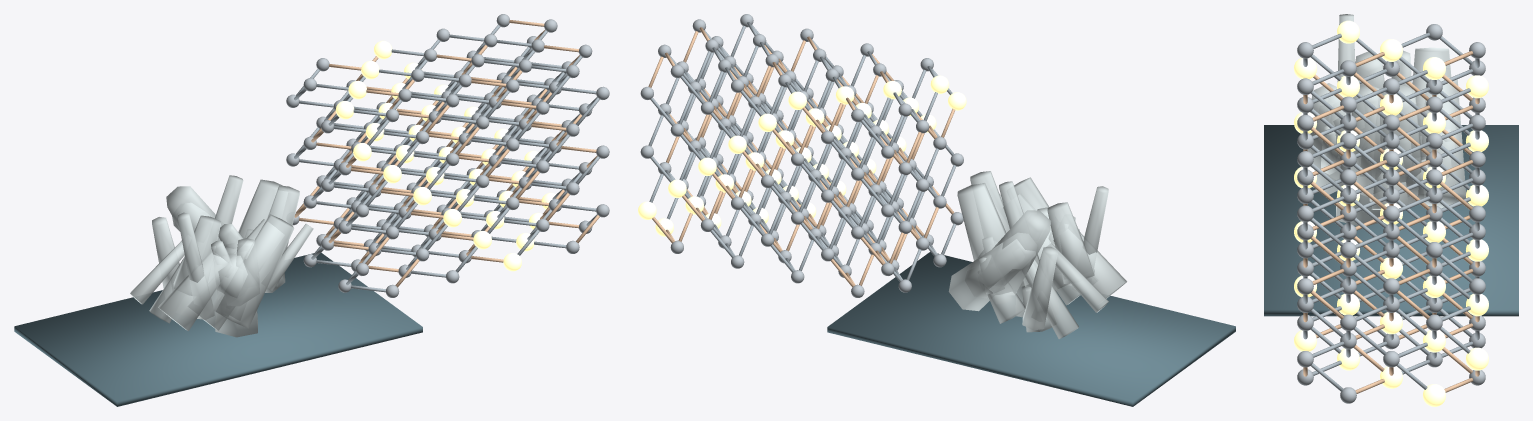
The model's file is atoms.glb.
3 views of the same model, side by side, from view 1: azimuth 30°, elevation 25°; view 2: azimuth 150°, elevation 25°; view 3: azimuth 270°, elevation 25° (orthographic). The views are drawn at different scales.
Parts seen in each view (by area): view 1: atoms_node_0525, atoms_node_0511, atoms_node_0507, atoms_node_0524, atoms_node_0512, atoms_node_0520, atoms_node_0505, atoms_node_0519, atoms_node_0510, atoms_node_0504, atoms_node_0516, atoms_node_0522 (+4 smaller); view 2: atoms_node_0525, atoms_node_0523, atoms_node_0510, atoms_node_0505, atoms_node_0507, atoms_node_0519, atoms_node_0516, atoms_node_0522, atoms_node_0521, atoms_node_0504, atoms_node_0512, atoms_node_0524 (+3 smaller); view 3: atoms_node_0525, atoms_node_0505, atoms_node_0523, atoms_node_0522, atoms_node_0510, atoms_node_0511, atoms_node_0519, atoms_node_0517, atoms_node_0512, atoms_node_0503, atoms_node_0145, atoms_node_0143 (+25 smaller).
Boxes of the visible parts, <box> form: atoms_node_0525: <box>14,252,422,406</box>; atoms_node_0511: <box>213,214,294,328</box>; atoms_node_0507: <box>158,251,231,330</box>; atoms_node_0524: <box>188,219,283,330</box>; atoms_node_0512: <box>178,212,214,319</box>; atoms_node_0520: <box>214,253,259,305</box>; atoms_node_0505: <box>238,179,287,238</box>; atoms_node_0519: <box>173,215,220,295</box>; atoms_node_0510: <box>166,186,219,240</box>; atoms_node_0504: <box>130,240,184,304</box>; atoms_node_0516: <box>152,217,179,290</box>; atoms_node_0522: <box>267,185,299,286</box>; atoms_node_0525: <box>827,251,1235,406</box>; atoms_node_0523: <box>948,233,1036,311</box>; atoms_node_0510: <box>978,210,1050,294</box>; atoms_node_0505: <box>957,183,1024,287</box>; atoms_node_0507: <box>1053,229,1126,298</box>; atoms_node_0519: <box>1047,202,1094,283</box>; atoms_node_0516: <box>1022,246,1057,330</box>; atoms_node_0522: <box>970,171,1009,241</box>; atoms_node_0521: <box>1022,259,1078,339</box>; atoms_node_0504: <box>1046,243,1108,312</box>; atoms_node_0512: <box>1072,186,1108,291</box>; atoms_node_0524: <box>1000,194,1096,305</box>; atoms_node_0525: <box>1264,125,1518,316</box>; atoms_node_0505: <box>1369,84,1423,204</box>; atoms_node_0523: <box>1418,78,1465,208</box>; atoms_node_0522: <box>1350,84,1384,196</box>; atoms_node_0510: <box>1412,47,1457,158</box>; atoms_node_0511: <box>1307,83,1345,194</box>; atoms_node_0519: <box>1354,51,1384,89</box>; atoms_node_0517: <box>1336,159,1382,225</box>; atoms_node_0512: <box>1337,14,1355,81</box>; atoms_node_0503: <box>1371,148,1408,209</box>; atoms_node_0145: <box>1466,347,1488,370</box>; atoms_node_0143: <box>1423,384,1445,406</box>.
Bounding box in the file's own units: 20.04 × 8.12 × 7.
